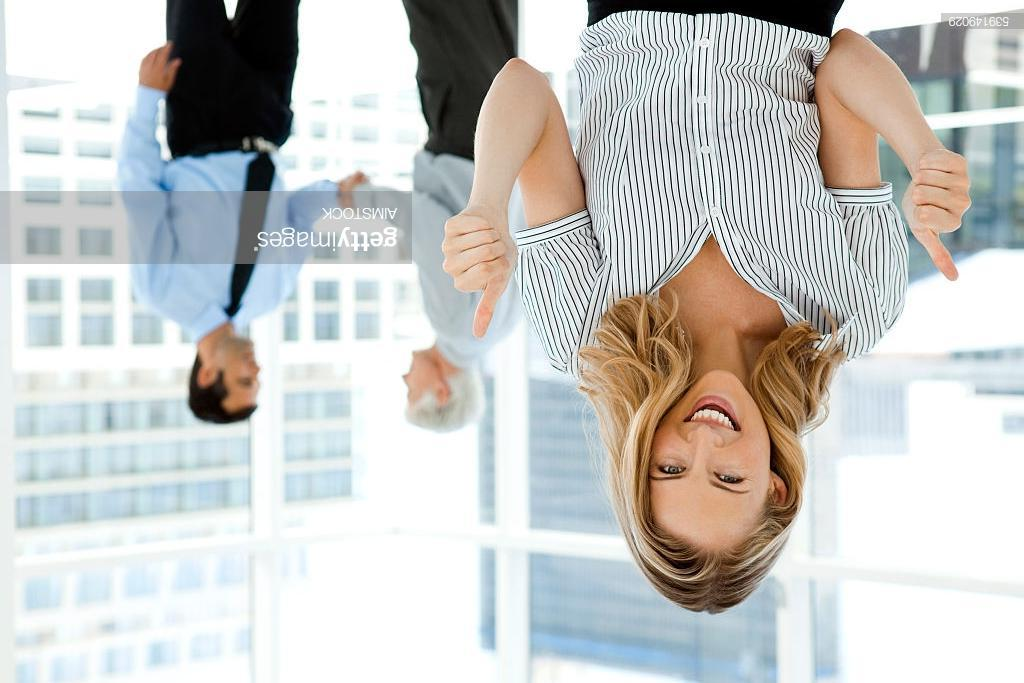thumbsdown: (441, 215, 511, 338), (908, 149, 972, 281)
